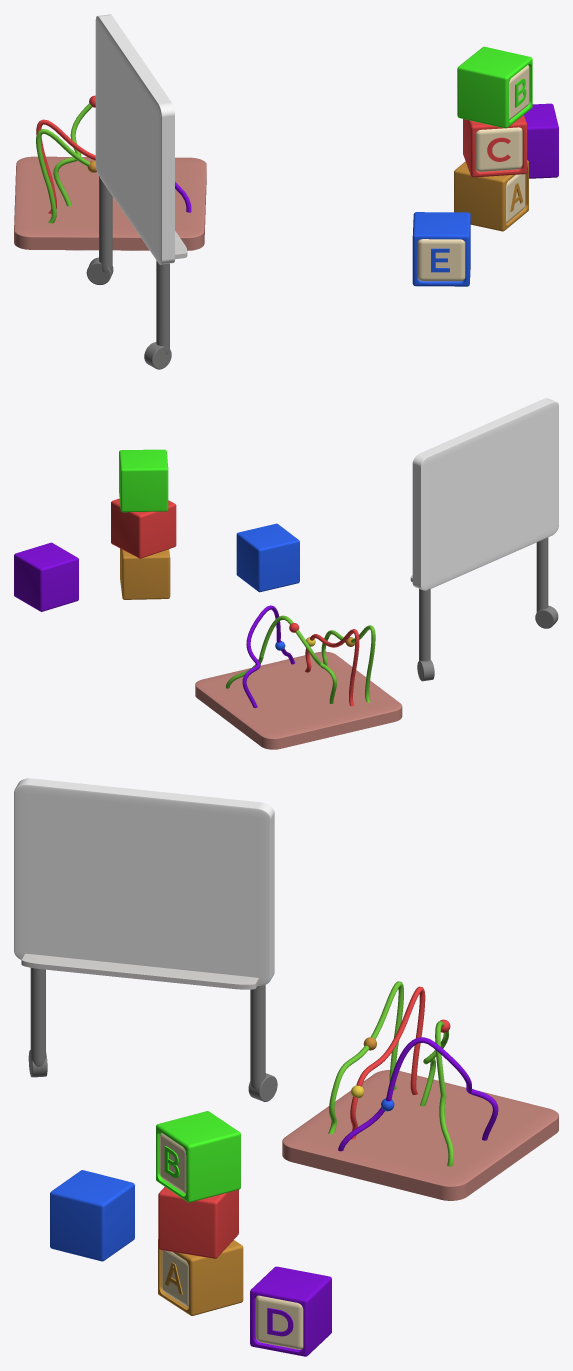
File: props.fbx
3 views of the same model, one above another, from view 1: azimuth 30°, elevation 25°; view 2: azimuth 150°, elevation 25°; view 3: azimuth 270°, elevation 25° (orthographic). The views are drawn at different scales.
Visible parts, largest first — view 1: Cube 19.001, Cube 15, Boolean.003, Boolean.004, Boolean, Boolean.001, Cube 20, Cube 20.002, Boolean.002, Cylinder 9.001, Cylinder 7, Path (+6 smaller); view 2: Cube 19.001, Cube 15, Boolean.001, Boolean, Boolean.003, Boolean.002, Boolean.004, Cylinder 9.001, Cylinder 7, Path 3, Path 4, Path 2 (+1 smaller); view 3: Cube 19.001, Cube 15, Boolean, Boolean.003, Boolean.002, Boolean.001, Boolean.004, Cube 19, Cube 20.001, Path 4, Cylinder 7, Path 2 (+5 smaller).
Boxes of the visible parts, left/top/right/bottom form: Cube 19.001: left=95, top=14, right=174, bottom=264; Cube 15: left=14, top=156, right=206, bottom=250; Boolean.003: left=457, top=46, right=532, bottom=128; Boolean.004: left=454, top=160, right=528, bottom=231; Boolean: left=412, top=212, right=470, bottom=286; Boolean.001: left=524, top=103, right=558, bottom=178; Cube 20: left=417, top=239, right=465, bottom=281; Cube 20.002: left=475, top=127, right=522, bottom=171; Boolean.002: left=463, top=115, right=527, bottom=177; Cylinder 9.001: left=156, top=260, right=169, bottom=354; Cylinder 7: left=99, top=176, right=112, bottom=272; Path: left=36, top=129, right=90, bottom=223; Cube 19.001: left=412, top=398, right=558, bottom=590; Cube 15: left=195, top=651, right=402, bottom=749; Boolean.001: left=14, top=542, right=78, bottom=611; Boolean: left=236, top=523, right=299, bottom=592; Boolean.003: left=119, top=449, right=168, bottom=512; Boolean.002: left=111, top=498, right=176, bottom=558; Boolean.004: left=120, top=548, right=170, bottom=599; Cylinder 9.001: left=536, top=537, right=548, bottom=612; Cylinder 7: left=419, top=588, right=430, bottom=661; Path 3: left=225, top=615, right=336, bottom=703; Path 4: left=242, top=605, right=294, bottom=708; Path 2: left=305, top=629, right=359, bottom=706; Cube 19.001: left=14, top=778, right=274, bottom=985; Cube 15: left=282, top=1070, right=558, bottom=1200; Boolean: left=50, top=1170, right=134, bottom=1261; Boolean.003: left=156, top=1111, right=240, bottom=1202; Boolean.002: left=158, top=1187, right=238, bottom=1258; Boolean.001: left=250, top=1266, right=331, bottom=1356; Boolean.004: left=158, top=1239, right=243, bottom=1315; Cube 19: left=21, top=953, right=258, bottom=989; Cube 20.001: left=255, top=1295, right=303, bottom=1349; Path 4: left=338, top=1037, right=498, bottom=1151; Cylinder 7: left=250, top=985, right=265, bottom=1088; Path 2: left=350, top=986, right=425, bottom=1139.
Size of the model in its own units: 837 by 409 by 674.
